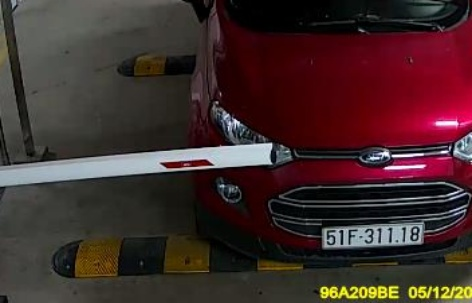plate: (319, 213, 426, 253)
